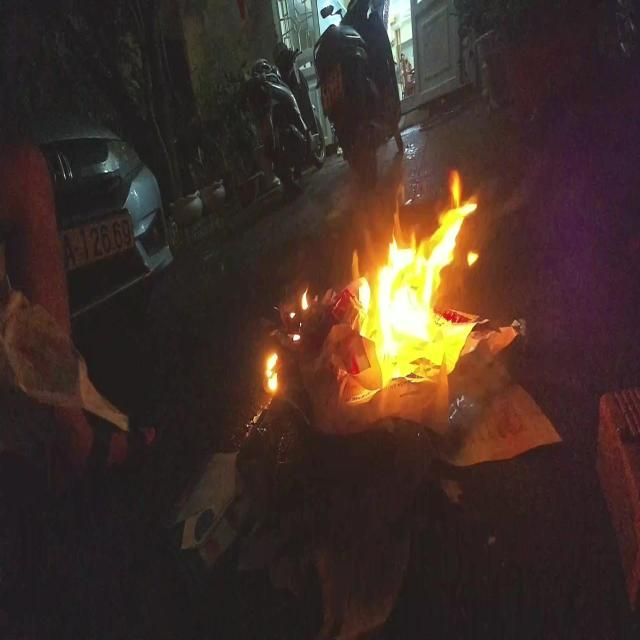Fire: (358, 170, 483, 392), (260, 277, 310, 405)
